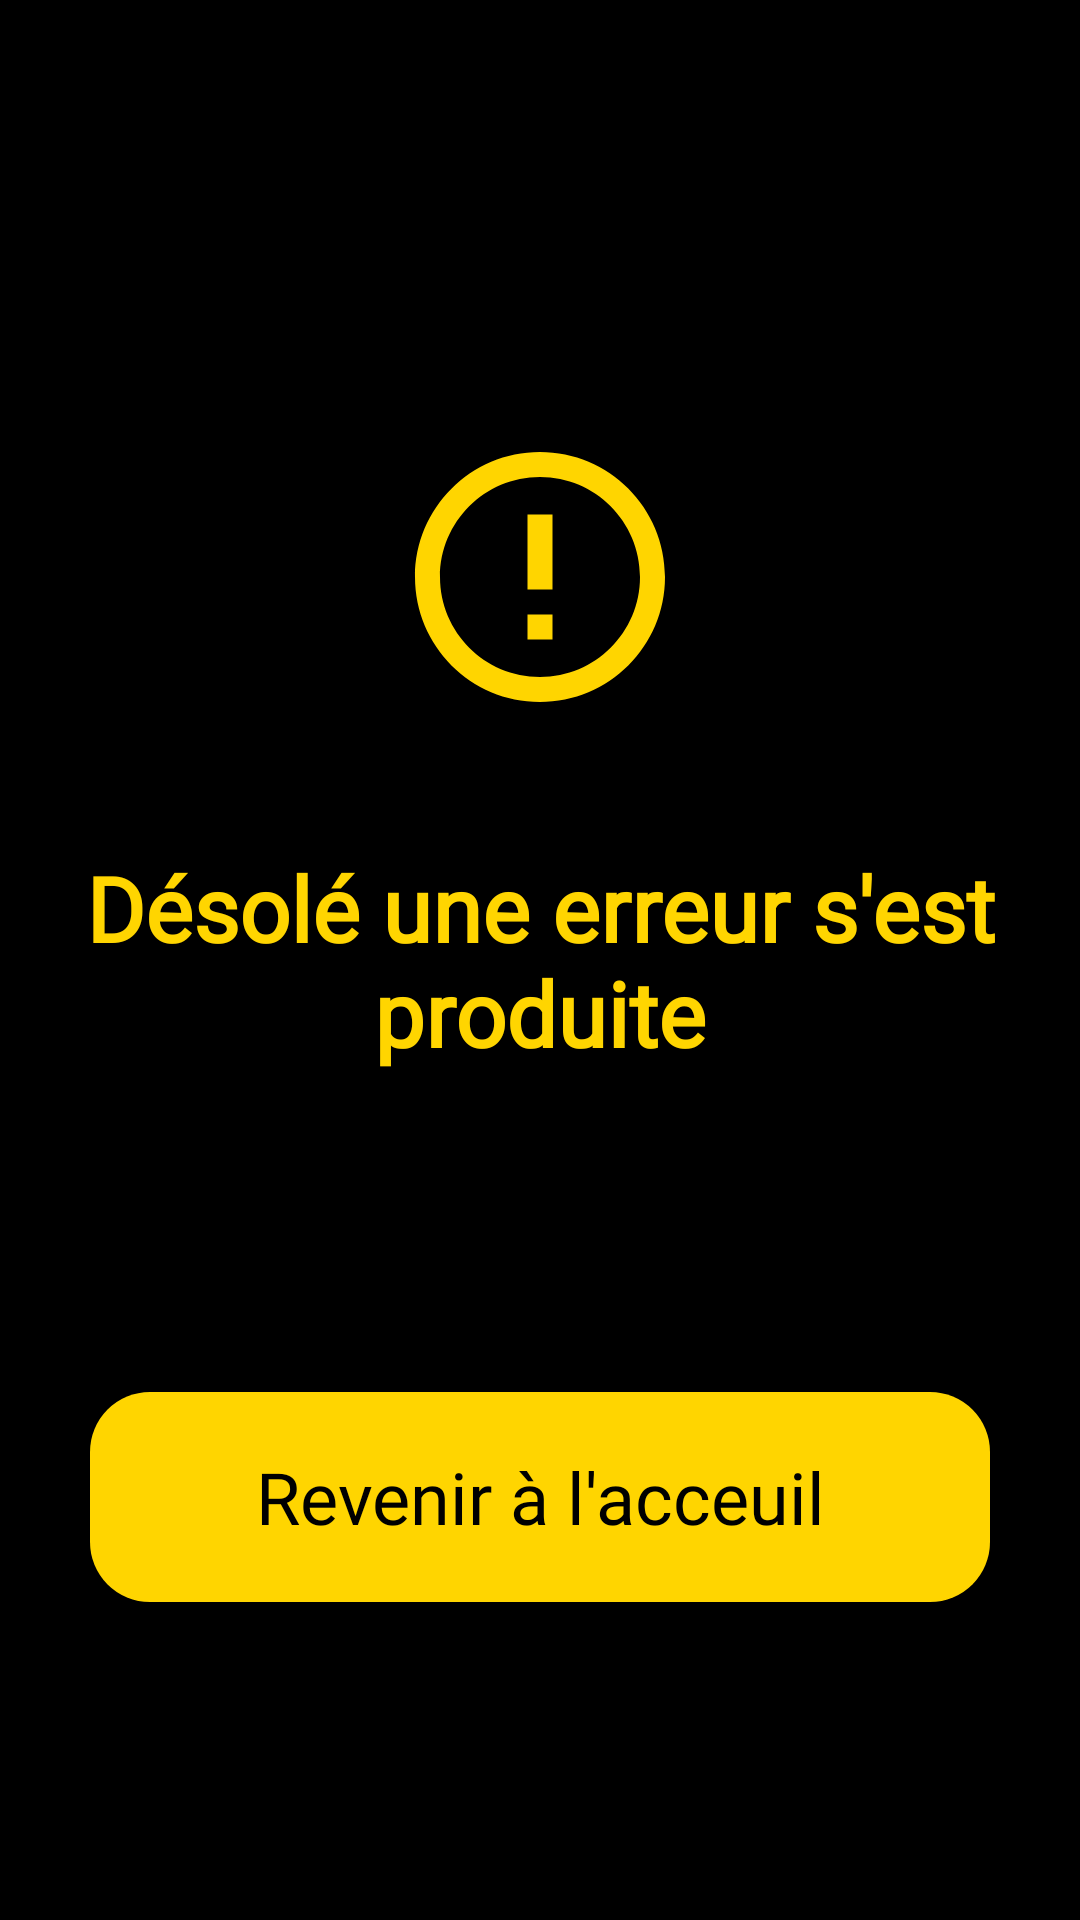

Icons on this 1080x1920 Android screen, each with the point to tap as (x,y):
error: (540,577)
